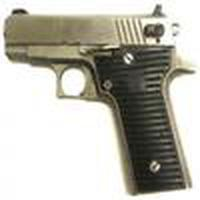gun: (5, 11, 195, 191)
